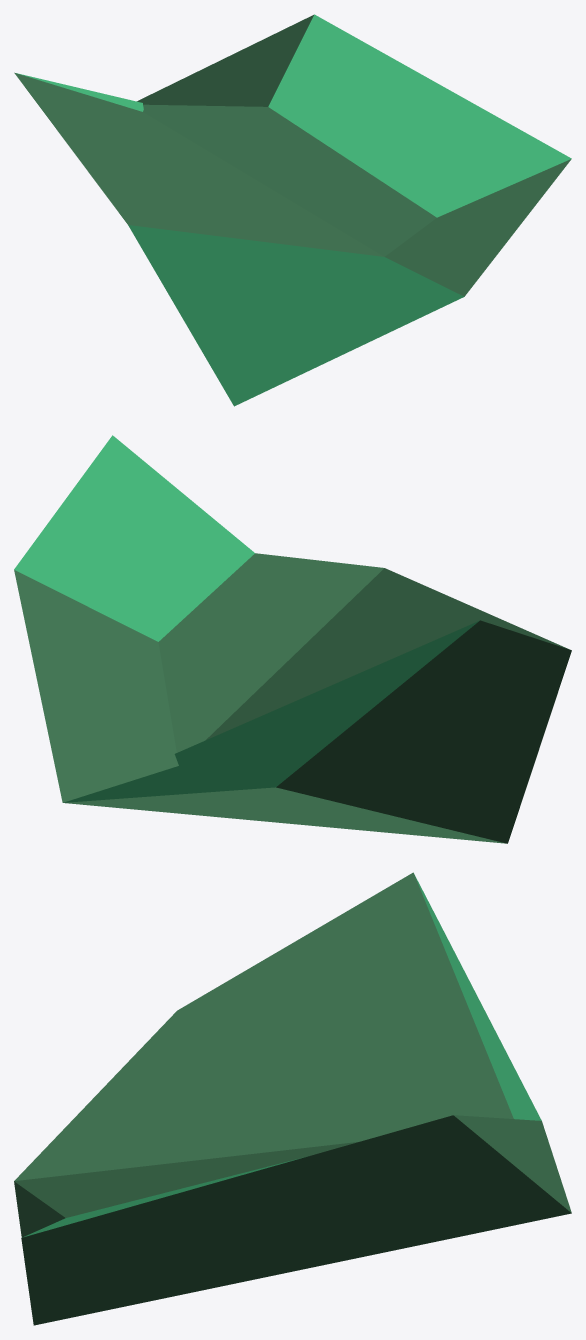
The model's file is RockDebris2.fbx.
3 renders of one model, top to bottom at view 1: azimuth 30°, elevation 25°; view 2: azimuth 150°, elevation 25°; view 3: azimuth 270°, elevation 25°, orthographic. The views are drawn at different scales.
Parts seen in each view (by area): view 1: RockDebri2; view 2: RockDebri2; view 3: RockDebri2.
Part boxes in pixels (<box>): RockDebri2: <box>14,14,571,406</box>; RockDebri2: <box>14,435,571,843</box>; RockDebri2: <box>14,872,571,1325</box>.
Size of the model in its own units: 65.05 by 41.1 by 58.18.
